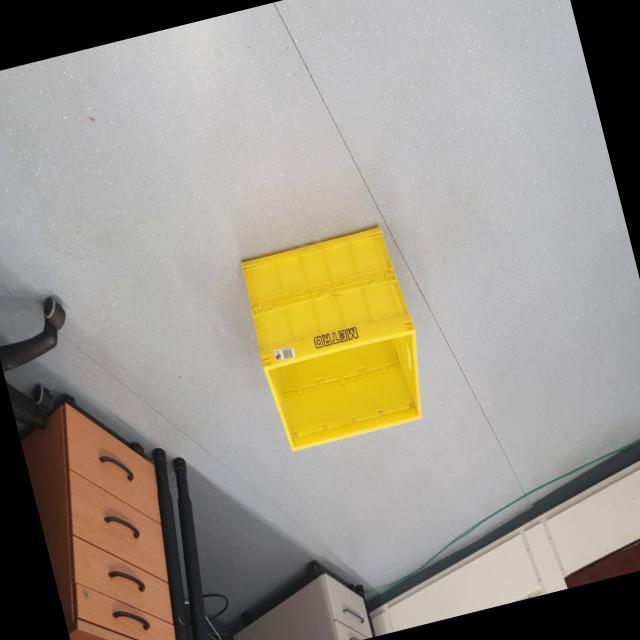box: (217, 196, 448, 466)
